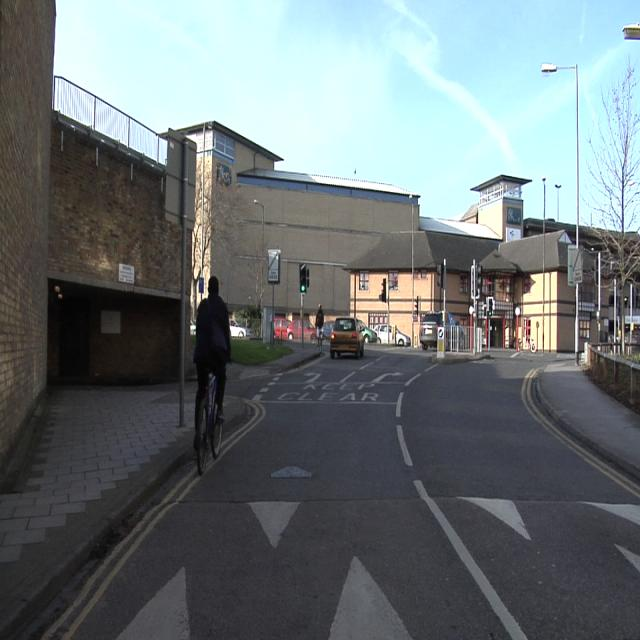Bicyclist: (193, 276, 231, 473), (194, 276, 231, 473), (315, 305, 324, 352)
Building: (45, 69, 417, 360), (418, 175, 639, 351), (2, 3, 46, 491)
Car: (330, 318, 367, 357), (420, 313, 444, 347), (397, 334, 409, 343)
Road: (52, 344, 637, 628)
Tree: (585, 55, 639, 289)
